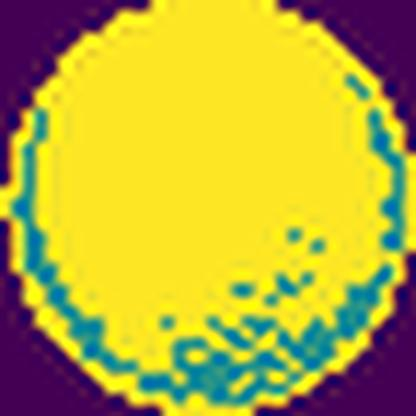Near-full: (34, 0, 396, 384)
